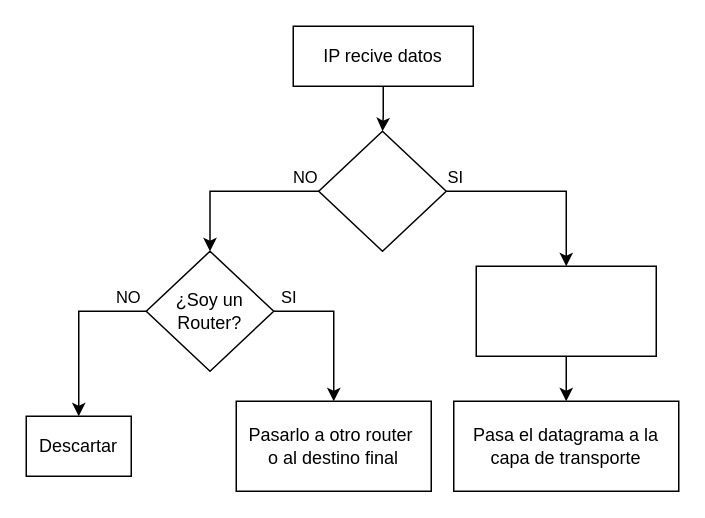
Some shapes in this 705 by 518 pixel diagram are drawn without their labels. Each missing label, with the centre of its shape:
"Reensambla los fragmentos si es necesario" belongs at [565,310].
"¿Es mío?" belongs at [381,190].
